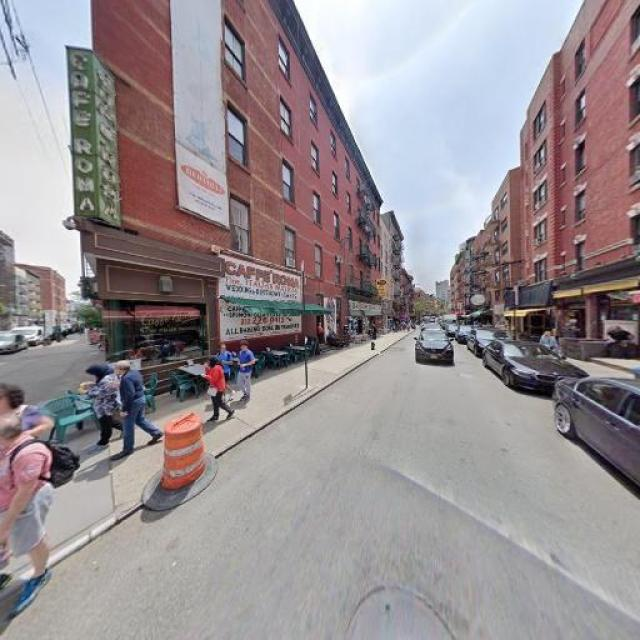Building: (103, 1, 357, 404), (528, 42, 640, 374)
